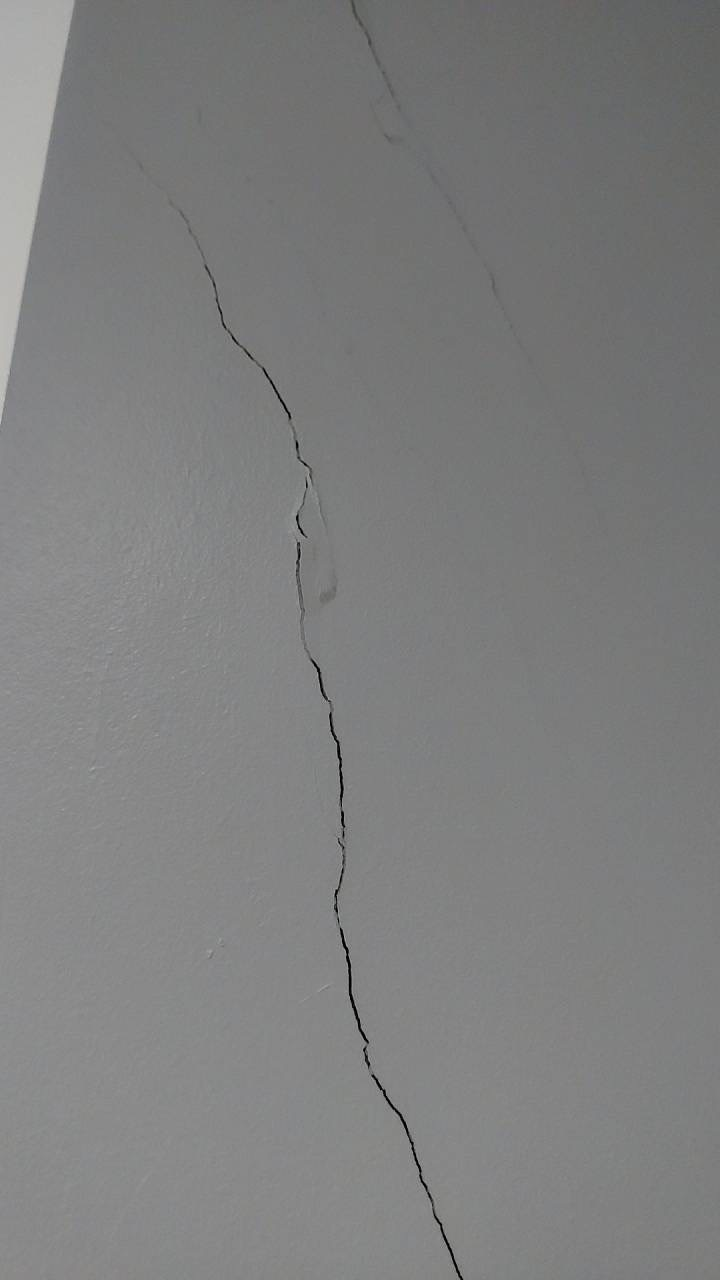Medium: (143, 271, 555, 1266)
